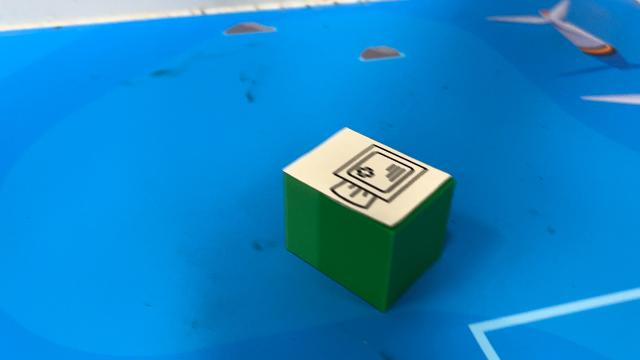napkin: (279, 123, 456, 312)
